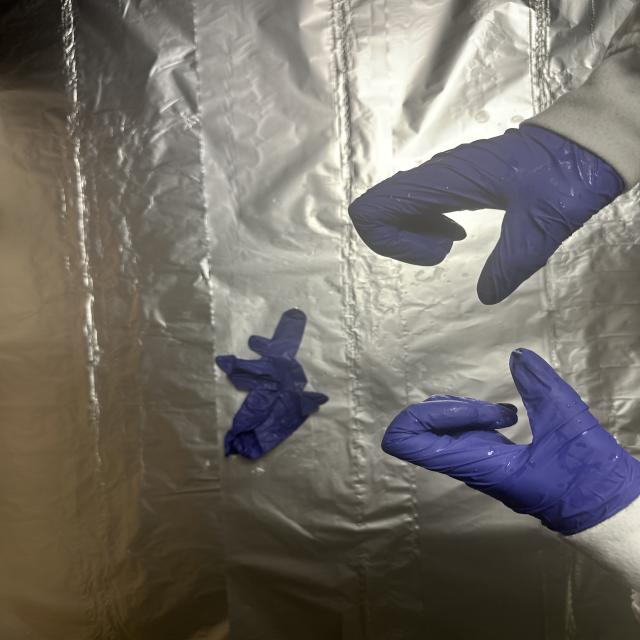gloves_contaminated: (348, 126, 622, 305), (382, 349, 640, 536)
